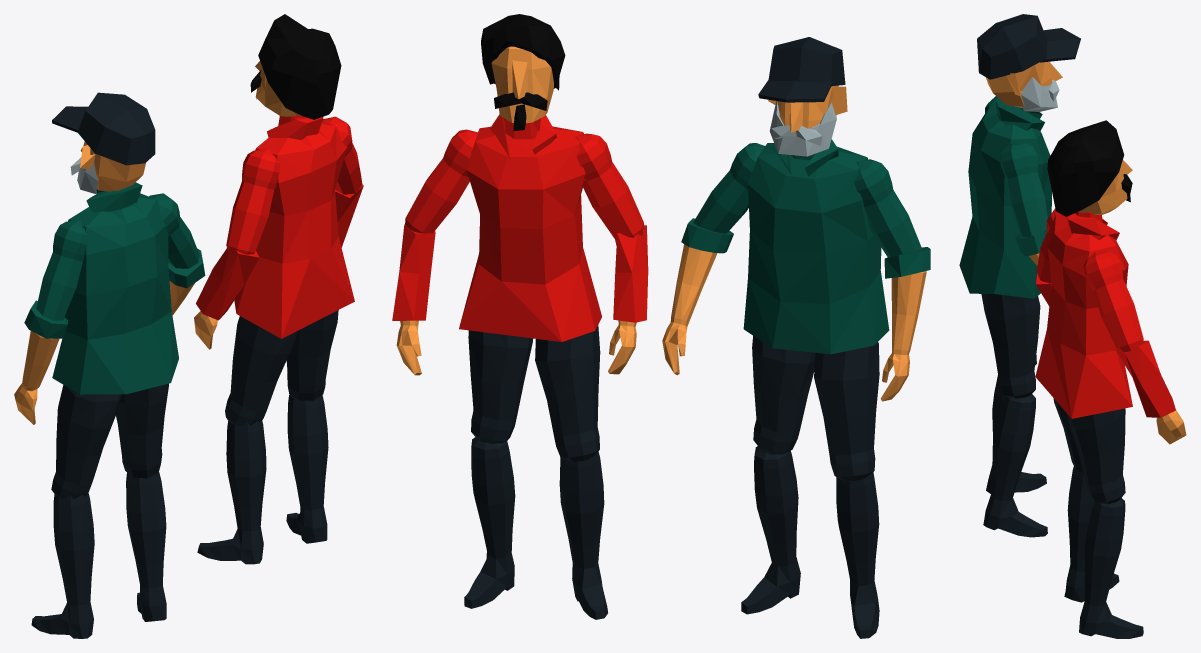
3 views of the same model, side by side, from view 1: azimuth 30°, elevation 25°; view 2: azimuth 150°, elevation 25°; view 3: azimuth 270°, elevation 25° (orthographic). The views are drawn at different scales.
Parts seen in each view (by area): view 1: group997697249, group1794093376, group1578840458, group1466040742, group1580086226, group1131172432, group1471751933, group938122174, group1874662402, group1099573344, group513549844, group1650303170 (+8 smaller); view 2: group997697249, group1794093376, group1466040742, group1578840458, group1471751933, group1874662402, group1099573344, group938122174, group719248615, group1650303170, group1131172432, group1580086226 (+8 smaller); view 3: group1794093376, group997697249, group1466040742, group1578840458, group1099573344, group938122174, group1650303170, group719248615, group1611516149, group106158125, group1037886679, group1131172432 (+4 smaller).
Boxes of the visible parts, x1,y1,x2,y2 form: group997697249: (52,189,178,394); group1794093376: (234,115,354,338); group1578840458: (250,14,341,119); group1466040742: (52,92,155,193); group1580086226: (31,493,94,638); group1131172432: (197,421,266,564); group1471751933: (51,385,121,498); group938122174: (286,394,328,543); group1874662402: (225,316,298,425); group1099573344: (126,472,166,621); group513549844: (24,220,87,338); group1650303170: (116,383,168,478); group997697249: (743,143,889,354); group1794093376: (459,114,601,341); group1466040742: (758,37,847,156); group1578840458: (481,14,565,130); group1471751933: (814,342,879,481); group1874662402: (535,325,600,462); group1099573344: (741,446,800,614); group938122174: (464,437,515,608); group719248615: (468,330,532,444); group1650303170: (752,336,815,454); group1131172432: (559,451,607,619); group1580086226: (836,472,879,638); group1794093376: (1035,211,1132,418); group997697249: (959,102,1051,298); group1466040742: (977,14,1080,111); group1578840458: (1047,120,1132,216); group1099573344: (983,394,1047,537); group938122174: (1079,498,1143,638); group1650303170: (981,294,1040,398); group719248615: (1066,408,1125,504); group1611516149: (1000,141,1047,256); group106158125: (1083,251,1143,352); group1037886679: (1115,340,1186,444); group1131172432: (1064,466,1119,602).
Size of the model in its own units: 2.5 by 3.12 by 1.27.
